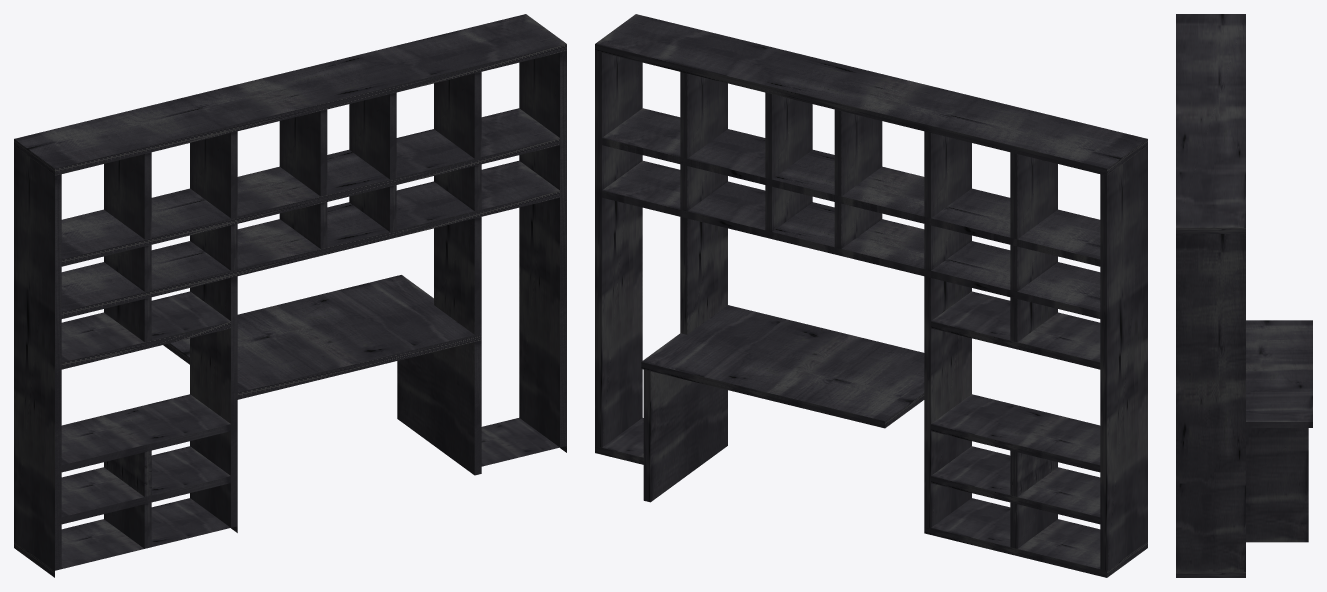
Rendered from Shelves.fbx.
3 renders of one model, left to right at view 1: azimuth 30°, elevation 25°; view 2: azimuth 150°, elevation 25°; view 3: azimuth 270°, elevation 25°, orthographic. The views are drawn at different scales.
Parts seen in each view (by area): view 1: polySurface31, polySurface44, polySurface53, polySurface43, polySurface56, polySurface30, polySurface54, polySurface40, polySurface48, polySurface49, polySurface47, polySurface45 (+15 smaller); view 2: polySurface31, polySurface53, polySurface44, polySurface43, polySurface56, polySurface30, polySurface54, polySurface40, polySurface48, polySurface45, polySurface49, polySurface47 (+15 smaller); view 3: polySurface30, polySurface31, polySurface54, polySurface53, polySurface46.
Boxes of the visible parts, box(x1,y1,x2,y2) form: polySurface31: box(14, 14, 566, 175); polySurface44: box(14, 146, 61, 570); polySurface53: box(163, 275, 481, 399); polySurface43: box(61, 108, 559, 266); polySurface56: box(61, 161, 559, 318); polySurface30: box(519, 51, 566, 447); polySurface54: box(397, 340, 481, 475); polySurface40: box(190, 276, 237, 527); polySurface48: box(61, 394, 230, 472); polySurface49: box(61, 446, 230, 524); polySurface47: box(61, 291, 230, 369); polySurface45: box(14, 498, 237, 577); polySurface31: box(595, 14, 1147, 175); polySurface53: box(641, 305, 924, 428); polySurface44: box(1100, 146, 1147, 570); polySurface43: box(602, 108, 1100, 266); polySurface56: box(602, 161, 1100, 318); polySurface30: box(595, 51, 642, 447); polySurface54: box(643, 369, 727, 502); polySurface40: box(924, 276, 971, 527); polySurface48: box(931, 394, 1100, 472); polySurface45: box(924, 498, 1147, 577); polySurface49: box(931, 446, 1100, 524); polySurface47: box(931, 291, 1100, 369); polySurface30: box(1176, 234, 1245, 571); polySurface31: box(1176, 14, 1245, 233); polySurface54: box(1246, 428, 1308, 542); polySurface53: box(1246, 320, 1312, 427); polySurface46: box(1176, 572, 1245, 577).
Bounding box in the file's own units: 3.15 × 2.41 × 0.8518.
